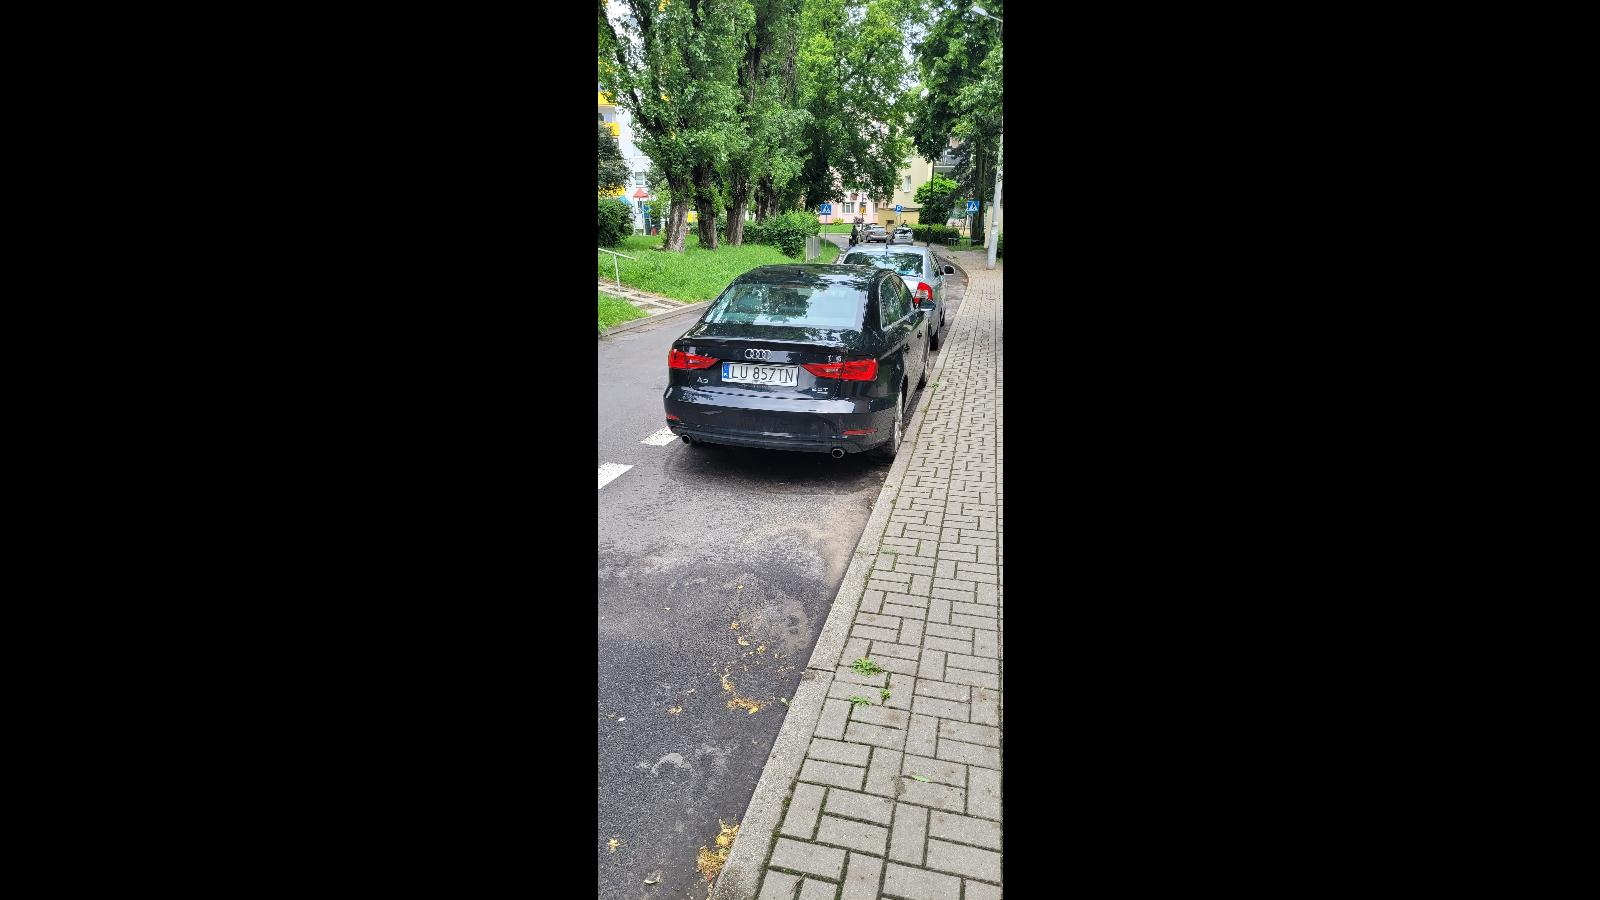plates: (722, 362, 798, 388)
